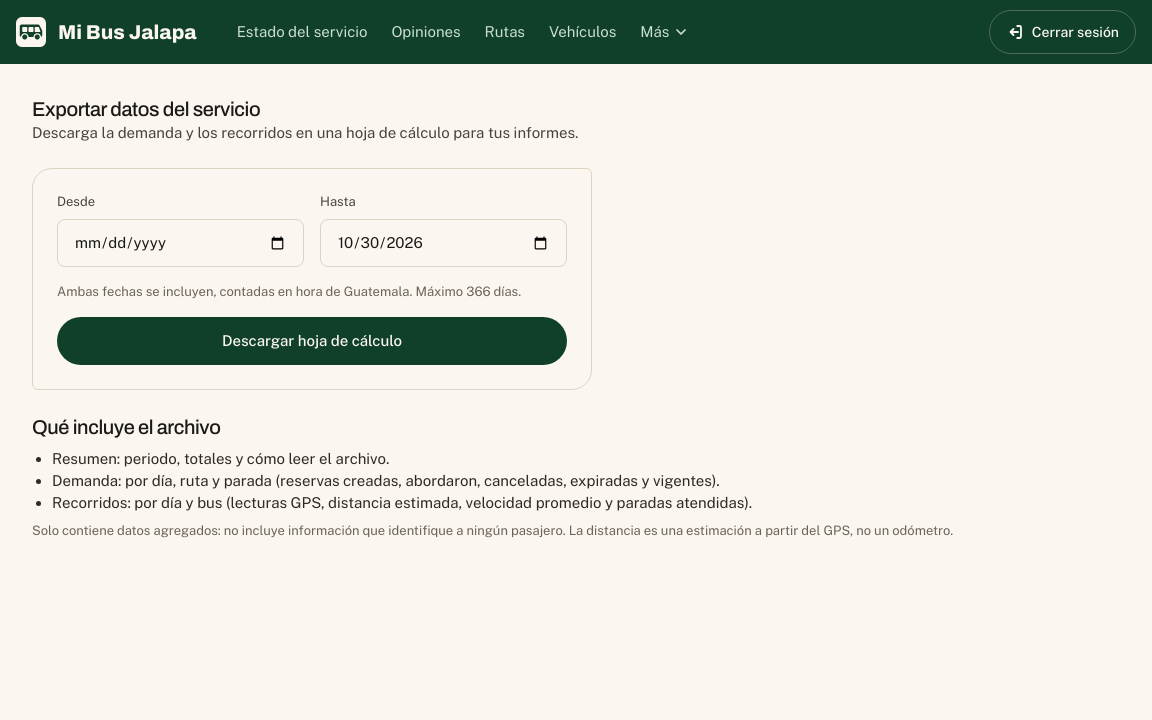
Test: HU-86 · pantalla Exportar datos · descarga (criterio 1) › mientras genera, el boton se bloquea y no se duplica la peticion
The image size is (1152, 720).
In the date field labelled "Desde": (180, 243) left=57, top=219, right=304, bottom=267, type "2026-09-01"
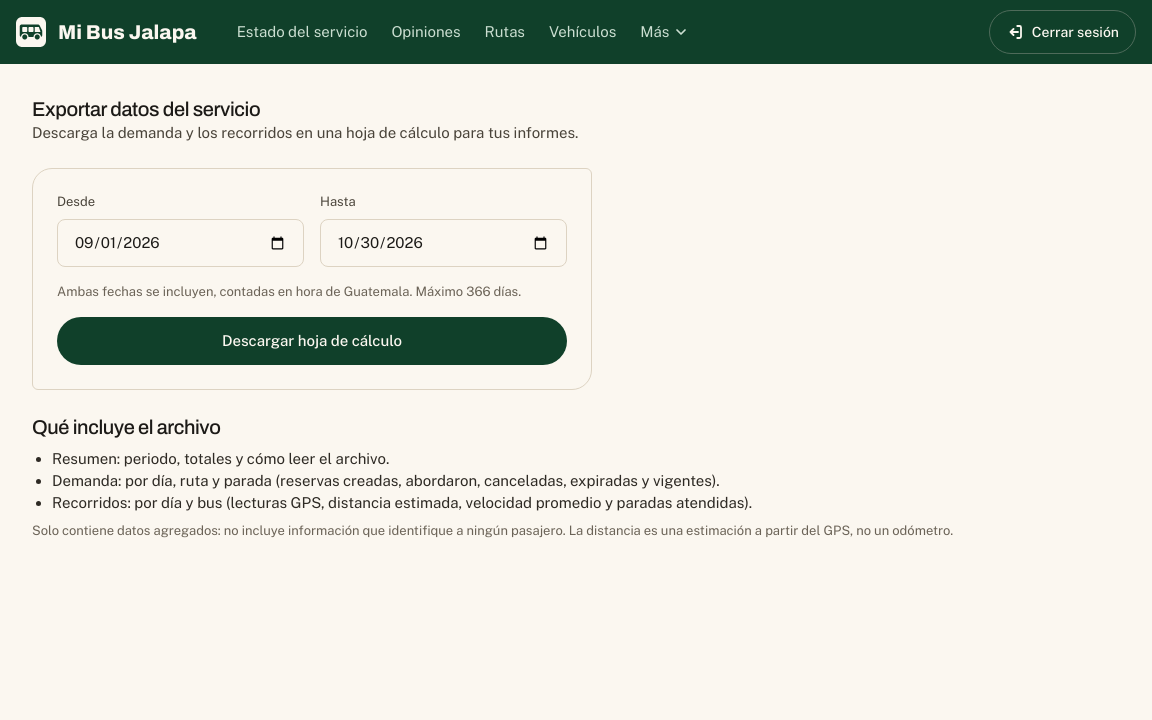
In the date field labelled "Hasta": (444, 243) left=320, top=219, right=567, bottom=267, type "2026-09-15"
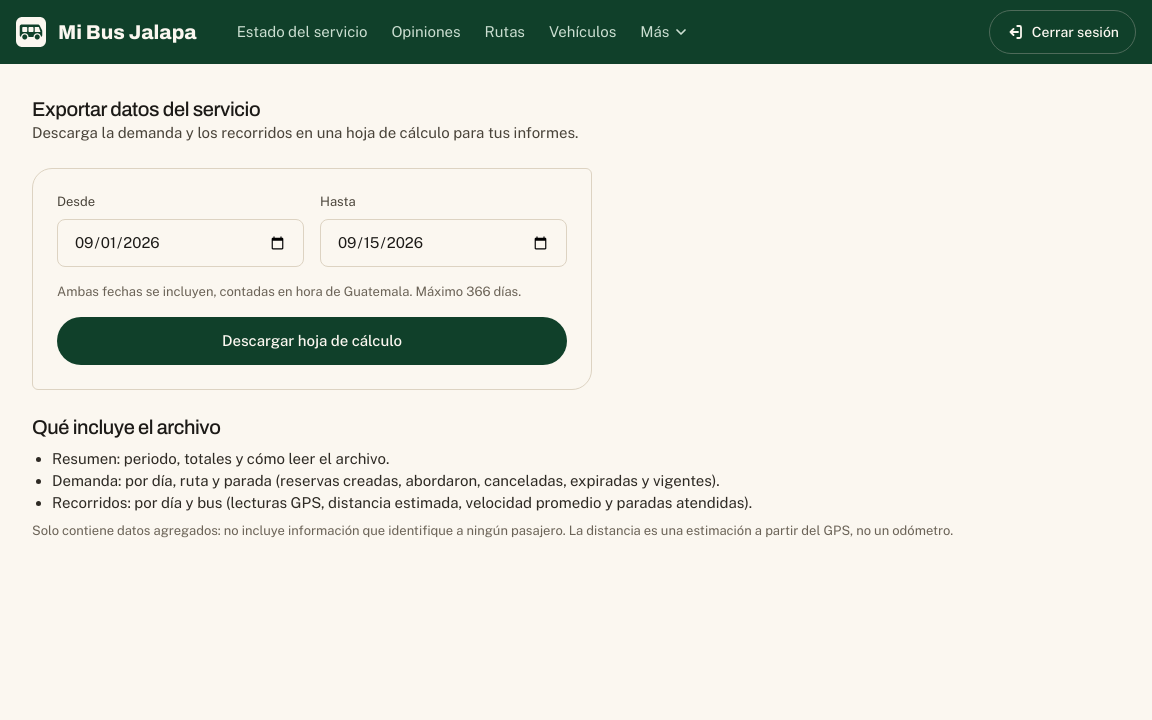
Click the button "Descargar hoja de cálculo": (312, 341) left=57, top=317, right=567, bottom=365
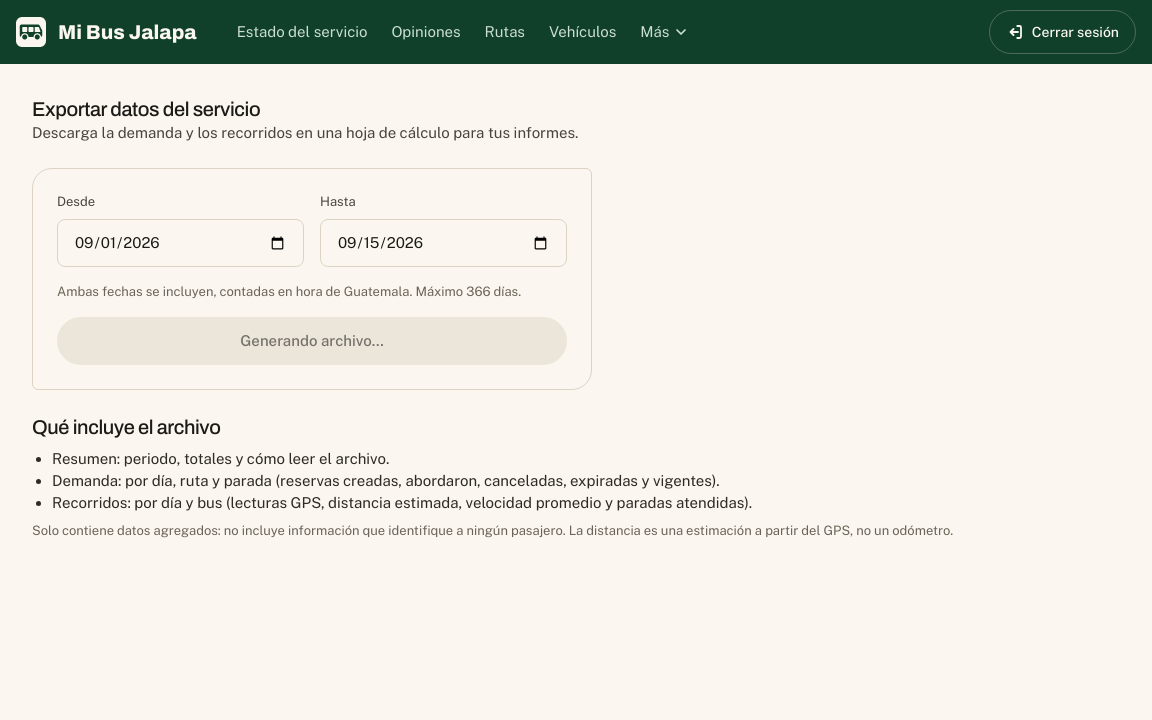
Check: the button "Generando archivo…" is disabled
Click the button "Generando archivo…": (312, 341) left=57, top=317, right=567, bottom=365
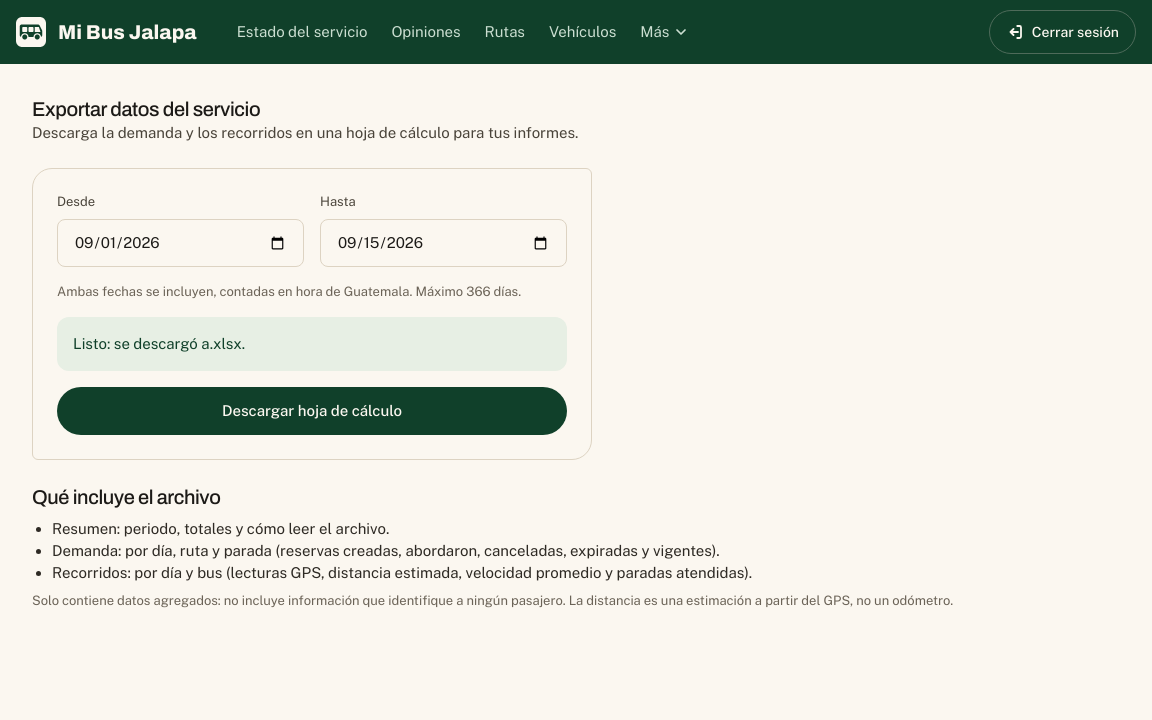
Check: the button "Descargar hoja de cálculo" is enabled, box left=57, top=387, right=567, bottom=435
